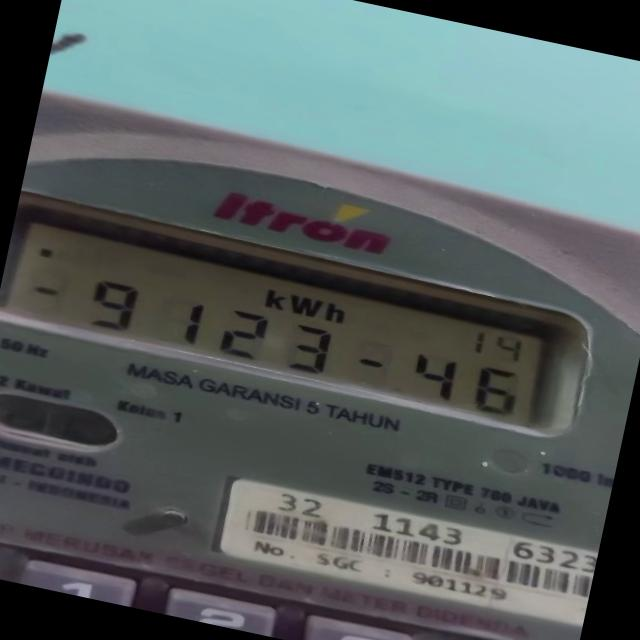LCD: (1, 201, 592, 442)
